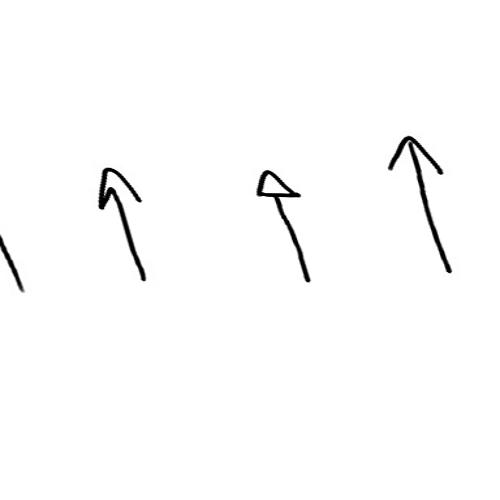arrow: (384, 138, 455, 278), (255, 168, 313, 286), (94, 167, 151, 284), (1, 237, 28, 293)
